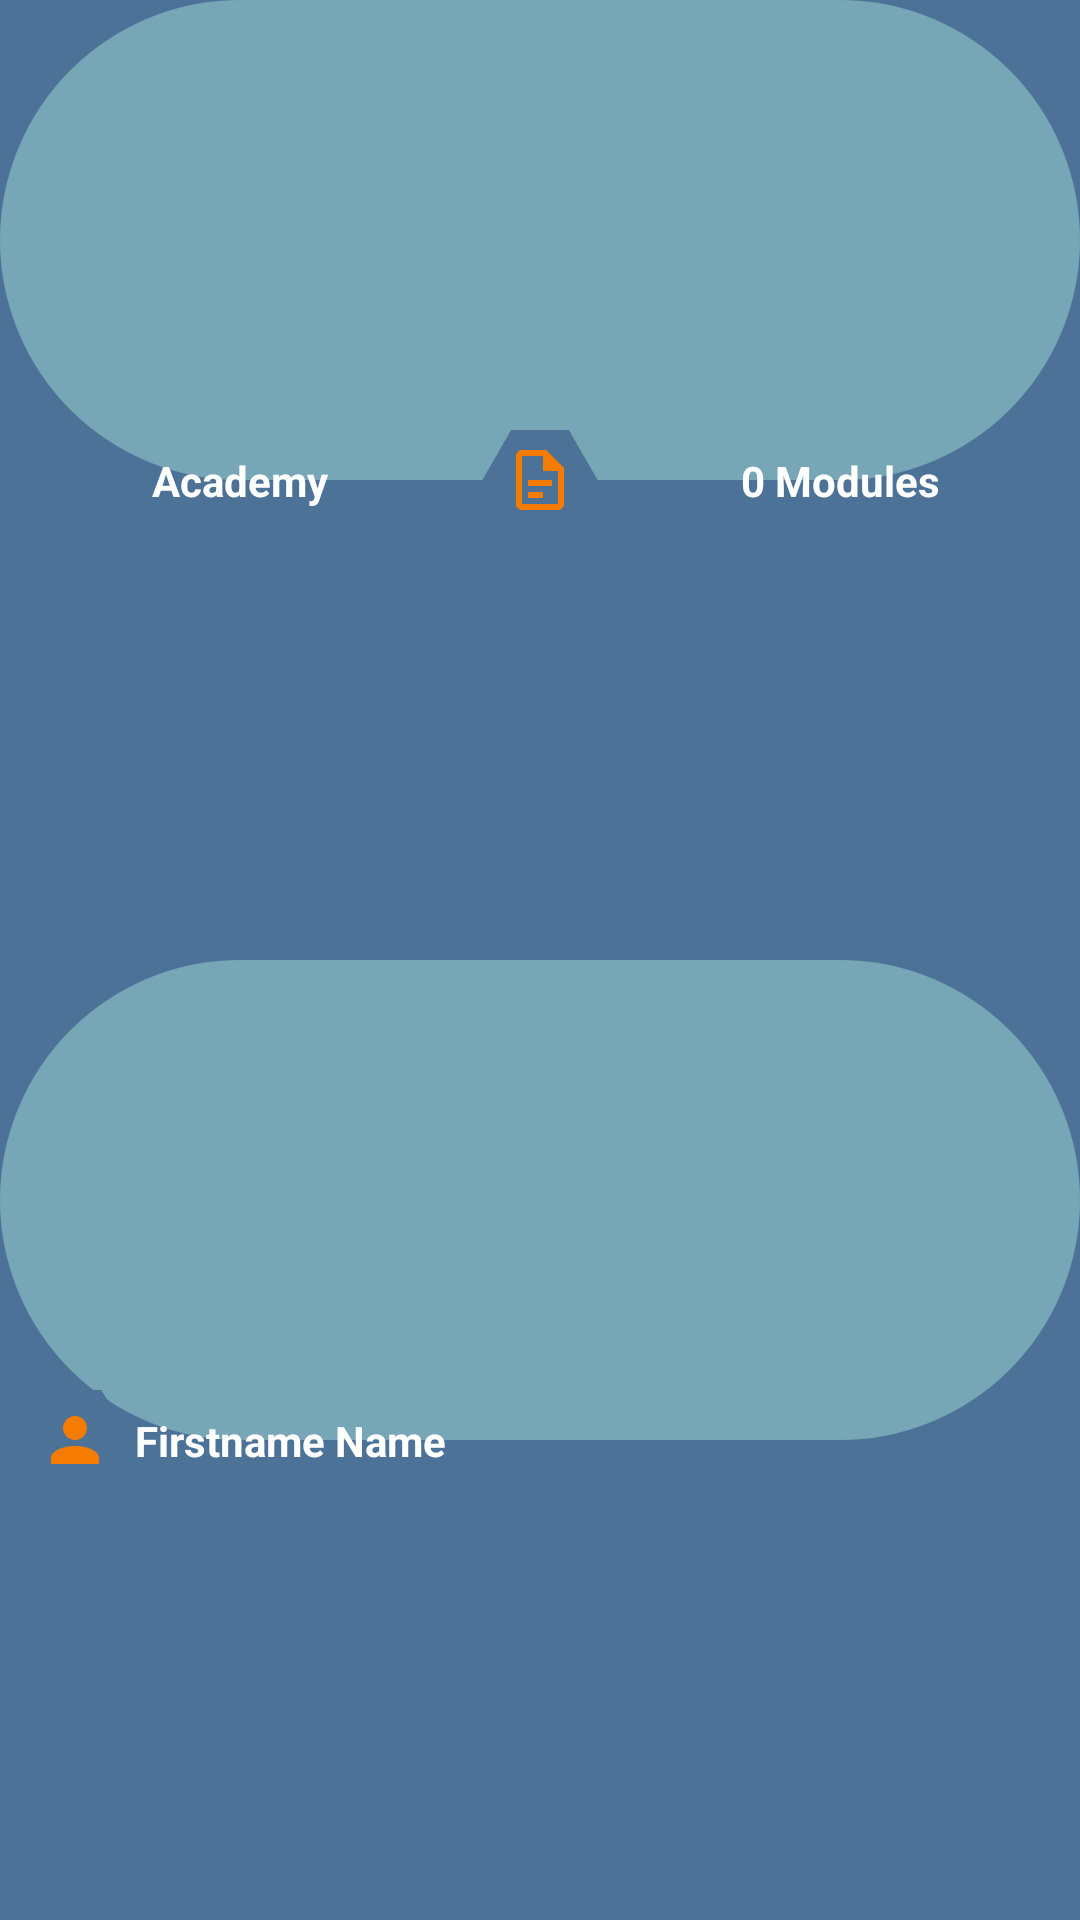

Point at icon controls on the screen. Image size 1080px x 1920px, points as point (x, y).
Actor hexagonal variant icon: point (75, 1440)
Module hexagonal variant icon: point (540, 480)
